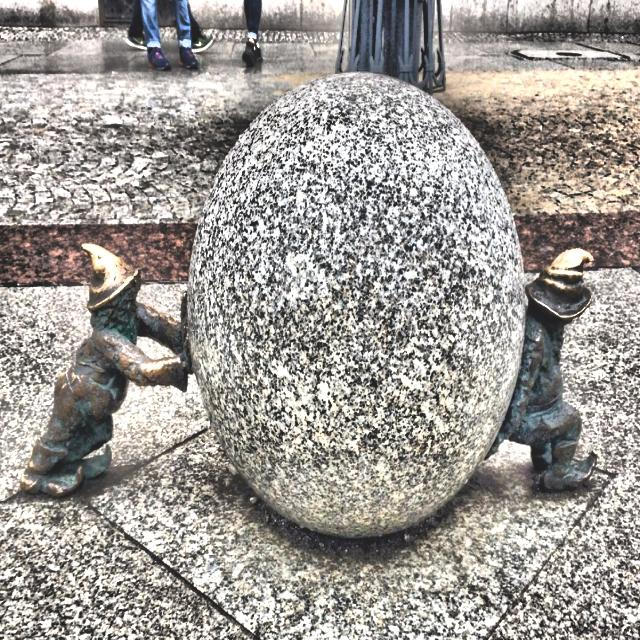Syzyfki: (11, 62, 612, 560)
